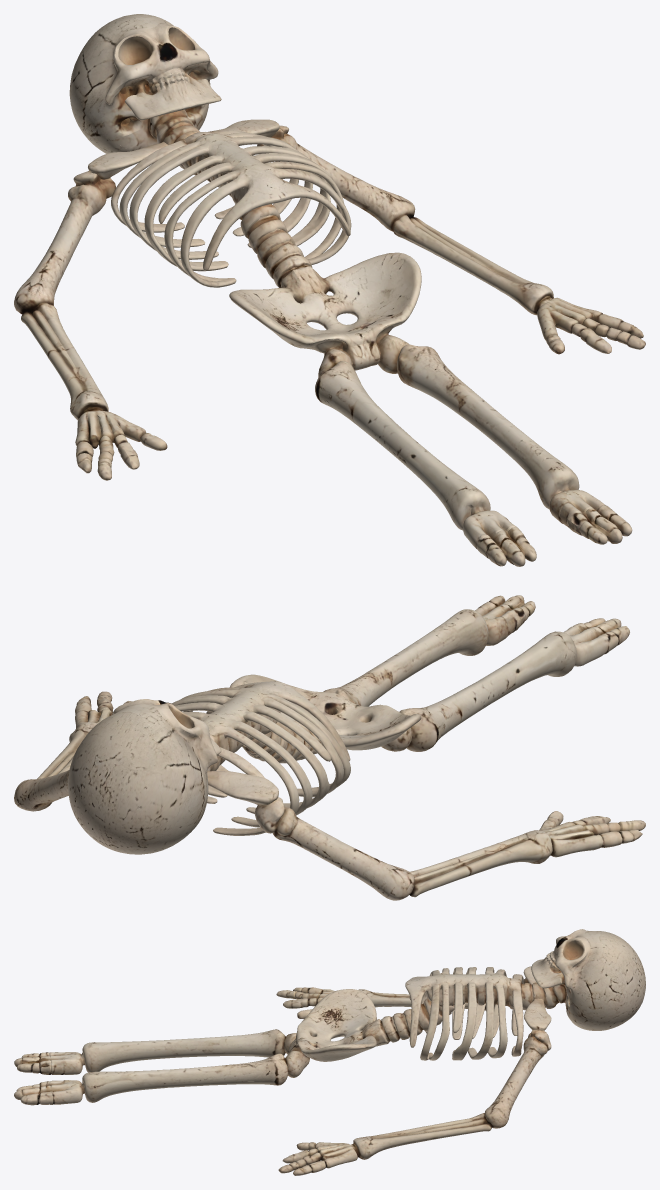
File: weathered-human-remains-v306.glb
3 views of the same model, one above another, from view 1: azimuth 30°, elevation 25°; view 2: azimuth 150°, elevation 25°; view 3: azimuth 270°, elevation 25° (orthographic). The views are drawn at different scales.
Visible parts, largest first — view 1: model; view 2: model; view 3: model.
Boxes of the visible parts, box(x1,y1,x2,y2) form: model: box(14, 14, 645, 566); model: box(14, 595, 645, 900); model: box(14, 929, 645, 1175).
Bounding box in the file's own units: 1.31 × 0.5075 × 1.9.
1 material, 1 textured.
